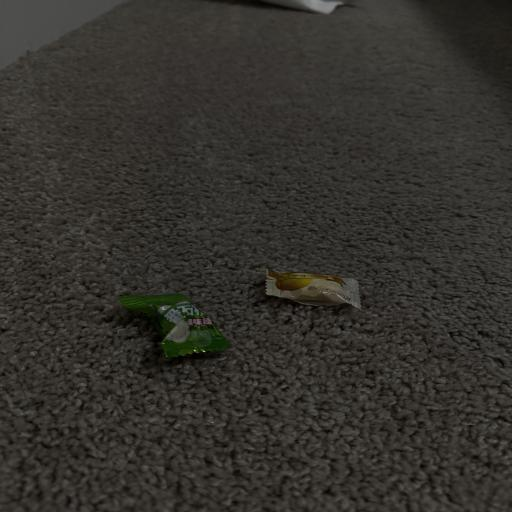chocolate: (120, 294, 230, 357), (267, 270, 360, 308)
